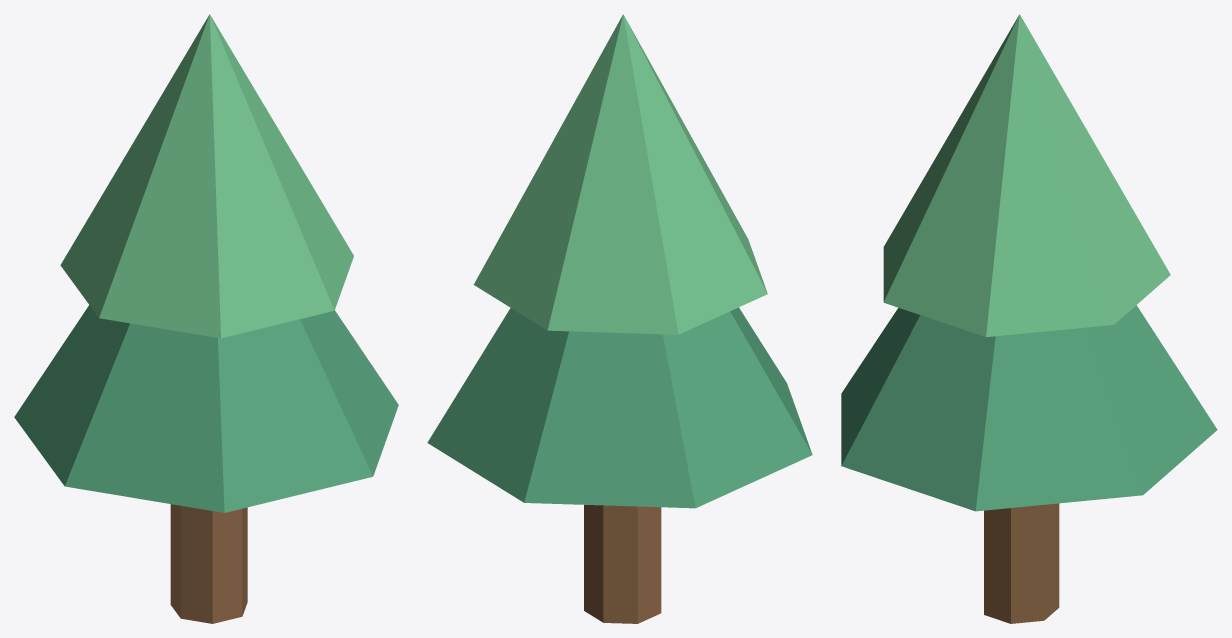
File: NAT_TREE_PINE_1x1_001.glb
3 views of the same model, side by side, from view 1: azimuth 30°, elevation 25°; view 2: azimuth 150°, elevation 25°; view 3: azimuth 270°, elevation 25° (orthographic).
Visible parts, largest first — view 1: NAT_TREE_PINE_1x1_001_Visual; view 2: NAT_TREE_PINE_1x1_001_Visual; view 3: NAT_TREE_PINE_1x1_001_Visual.
Boxes of the visible parts, box(x1,y1,x2,y2) form: NAT_TREE_PINE_1x1_001_Visual: box(14, 14, 398, 623); NAT_TREE_PINE_1x1_001_Visual: box(427, 14, 812, 623); NAT_TREE_PINE_1x1_001_Visual: box(841, 14, 1217, 623).
Size of what is drawn, in the model's own units: 1.07 by 1.82 by 1.05.
